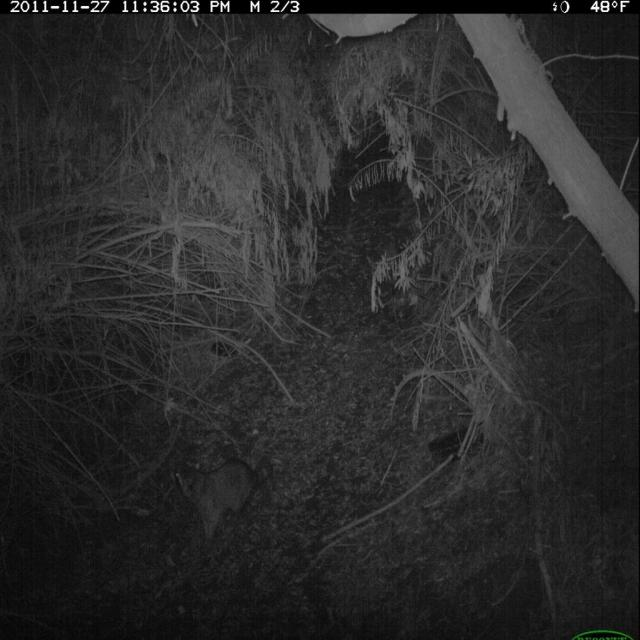raccoon: (171, 449, 269, 555)
